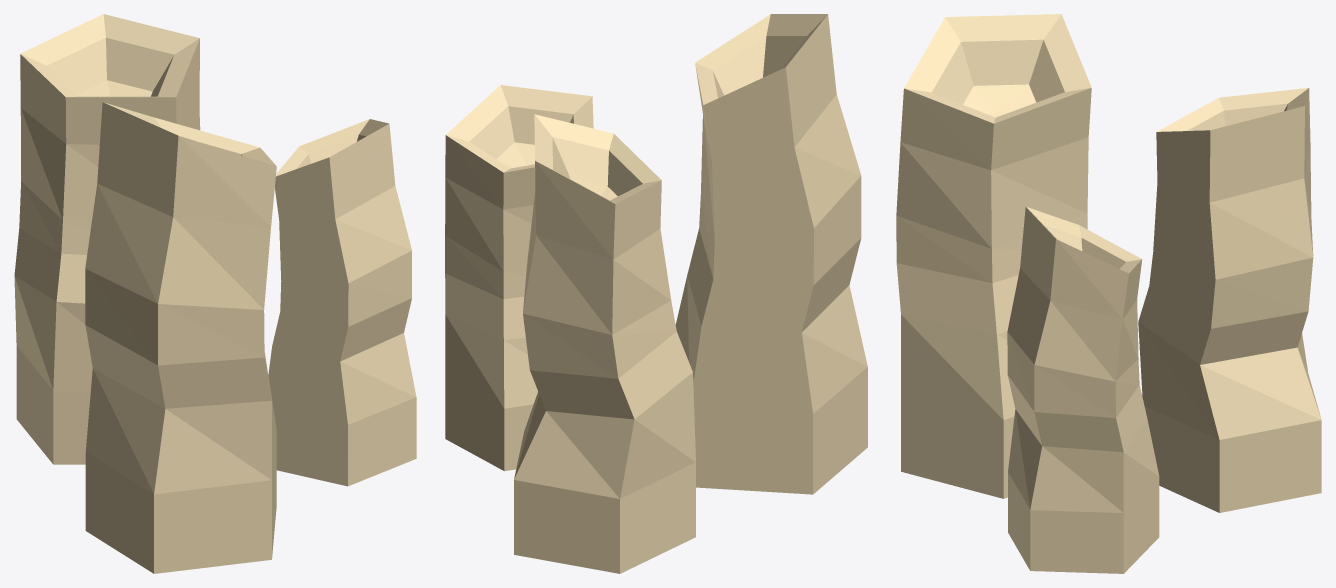
Rendered from VoodooTemplate_2.fbx.
3 views of the same model, side by side, from view 1: azimuth 30°, elevation 25°; view 2: azimuth 150°, elevation 25°; view 3: azimuth 270°, elevation 25° (orthographic). The views are drawn at different scales.
Parts seen in each view (by area): view 1: Candle3, Candle2, Candle1; view 2: Candle3, Candle1, Candle2; view 3: Candle3, Candle1, Candle2.
Part boxes in pixels (box(x1,y1,x2,y2)): Candle3: box(85, 102, 276, 573); Candle2: box(268, 119, 416, 486); Candle1: box(14, 14, 200, 464); Candle3: box(675, 14, 867, 494); Candle1: box(514, 114, 695, 573); Candle2: box(445, 85, 593, 471); Candle3: box(896, 14, 1091, 498); Candle1: box(1138, 88, 1321, 512); Candle2: box(1007, 207, 1159, 573).
Size of what is drawn, in the model's own units: 170 by 209 by 191.
